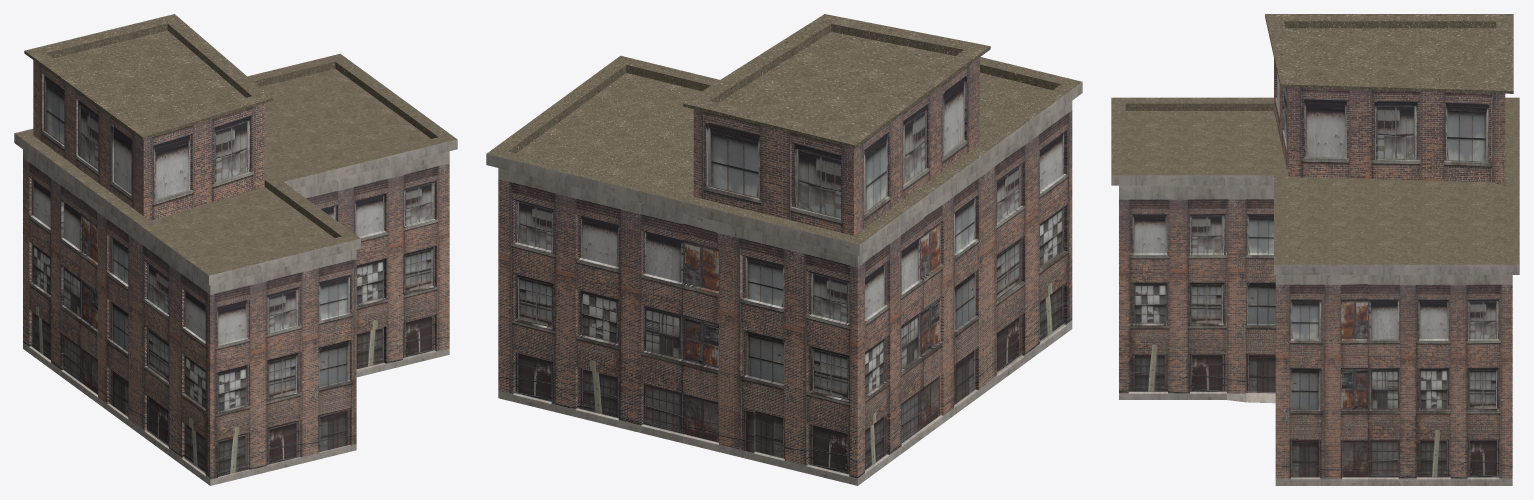
Rendered from sf-indbuilding.glb.
The picture shows the model from 3 angles, left to right: view 1: azimuth 30°, elevation 25°; view 2: azimuth 150°, elevation 25°; view 3: azimuth 270°, elevation 25°; orthographic projection. The views are drawn at different scales.
Parts seen in each view (by area): view 1: Cube_0, Cube.001_3; view 2: Cube_0, Cube.001_3; view 3: Cube_0, Cube.001_3.
Boxes of the visible parts, bbox=[...] form: Cube_0: bbox=[14, 53, 457, 485]; Cube.001_3: bbox=[24, 14, 272, 220]; Cube_0: bbox=[486, 55, 1082, 485]; Cube.001_3: bbox=[683, 14, 990, 235]; Cube_0: bbox=[1111, 97, 1519, 485]; Cube.001_3: bbox=[1265, 14, 1513, 182].
Size of the model in its own units: 3.34 by 2.91 by 3.45.
Materials: 2 (2 with a texture image).
